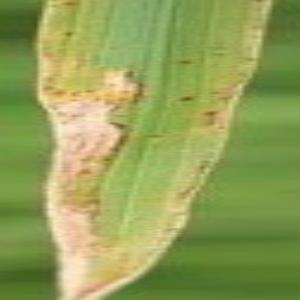2 BacterialBlight: (39, 6, 194, 293)
